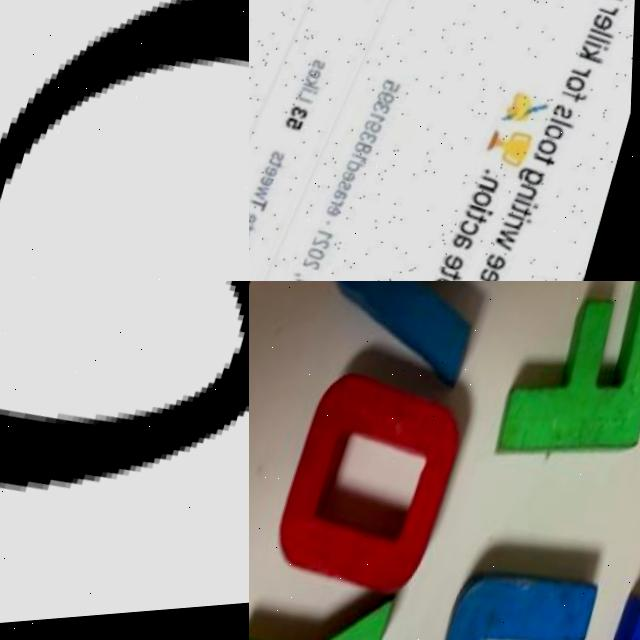0: (0, 281, 249, 589), (310, 250, 330, 267)
1: (315, 231, 339, 247), (370, 117, 390, 130), (353, 157, 372, 170)
2: (306, 260, 326, 278), (315, 240, 335, 257)
3: (373, 105, 394, 123), (362, 134, 382, 151), (292, 109, 312, 126)
5: (286, 119, 307, 136), (384, 84, 404, 100)
8: (356, 144, 377, 162)
9: (366, 124, 386, 141), (379, 96, 400, 112)
D: (0, 0, 249, 281)
F: (494, 281, 640, 492)
J: (416, 548, 607, 640)
O: (266, 363, 474, 609)
V: (305, 281, 511, 404)
Y: (249, 566, 399, 640)
